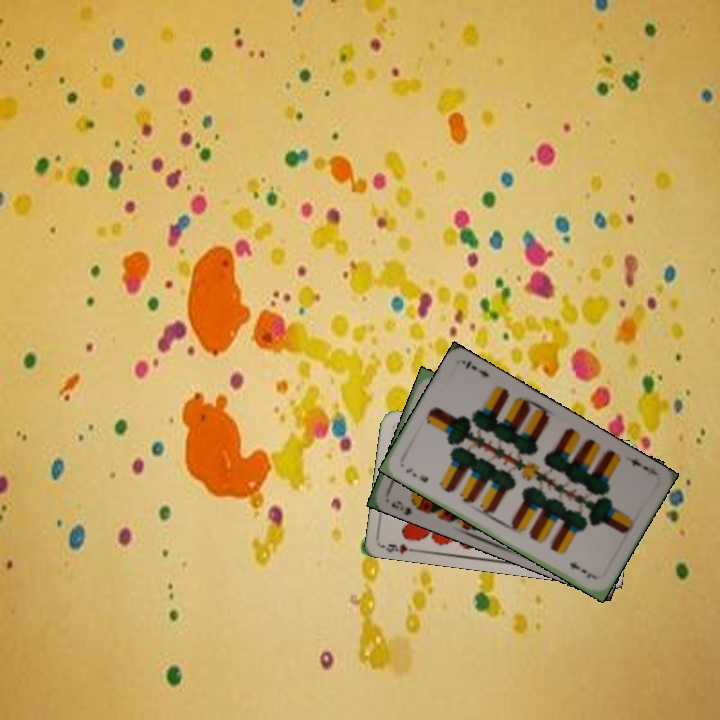E7: (401, 464, 431, 485), (626, 454, 652, 473)
H9: (379, 539, 420, 556)
S9: (387, 497, 424, 517)
